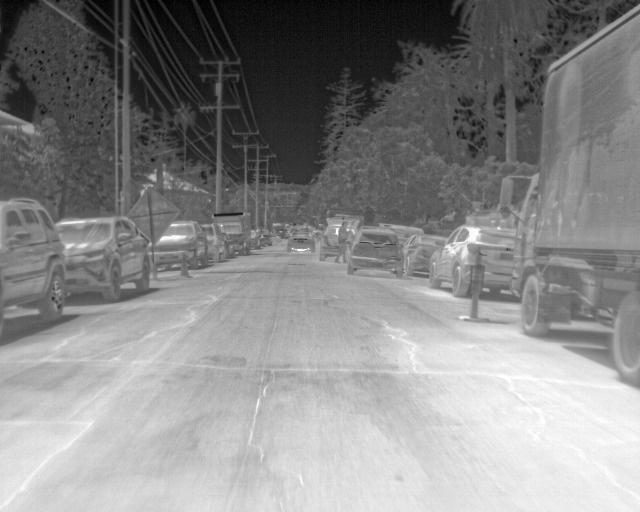bicycle: (56, 214, 153, 305), (0, 196, 67, 324), (430, 223, 520, 297), (346, 226, 405, 277), (150, 222, 205, 271), (402, 236, 449, 278), (203, 223, 229, 263), (286, 223, 317, 252), (319, 220, 341, 260)
empty: (333, 222, 351, 262)
